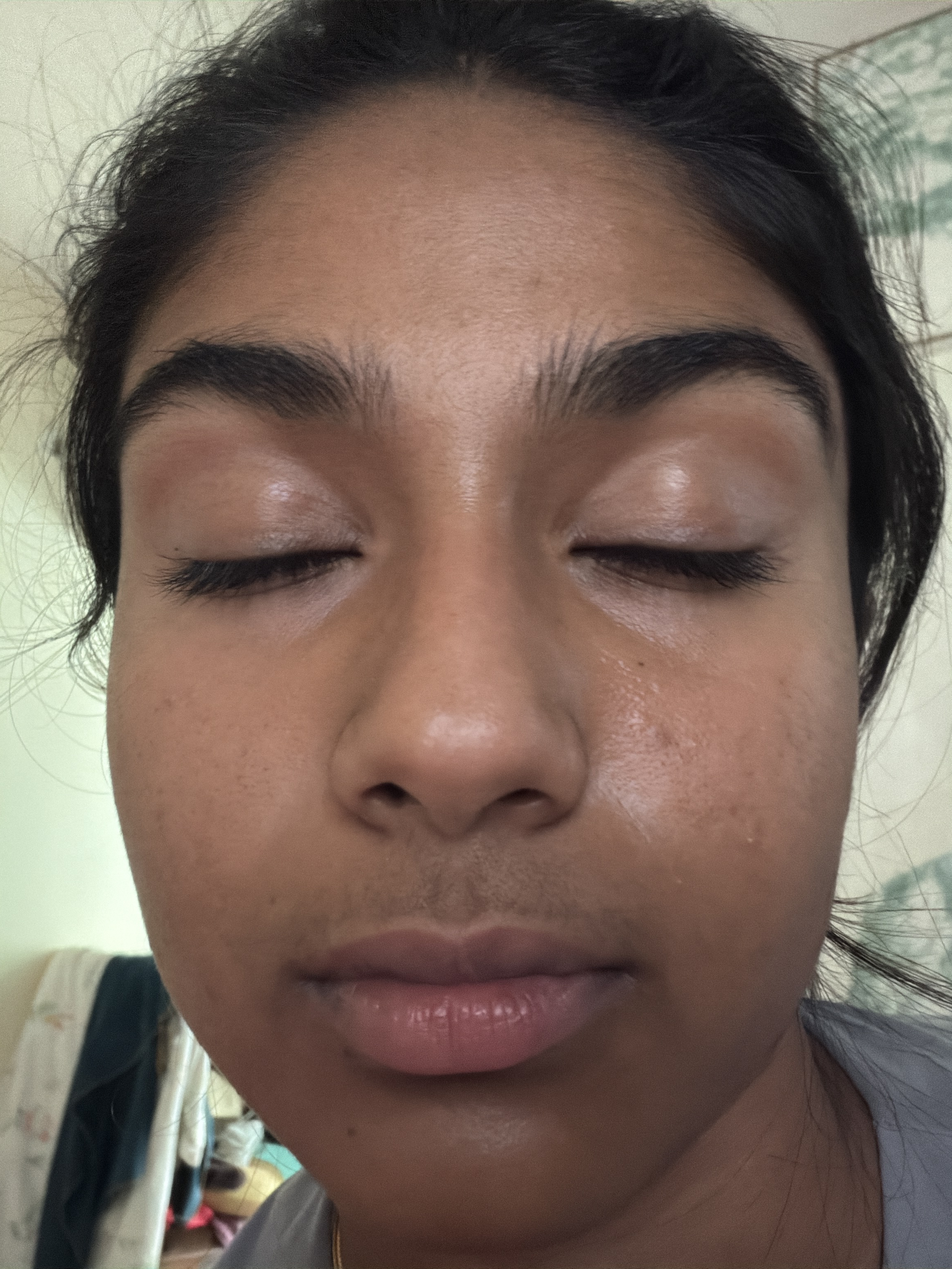closed_comedone: (607, 223, 616, 230)
pustule: (675, 878, 685, 885), (746, 837, 755, 844), (689, 740, 698, 747), (746, 836, 753, 845), (692, 742, 698, 748), (677, 879, 684, 884)
